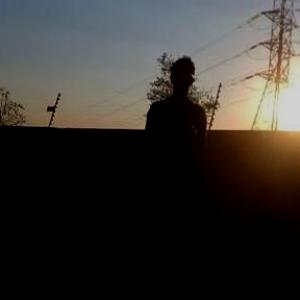follow: (118, 49, 208, 282)
